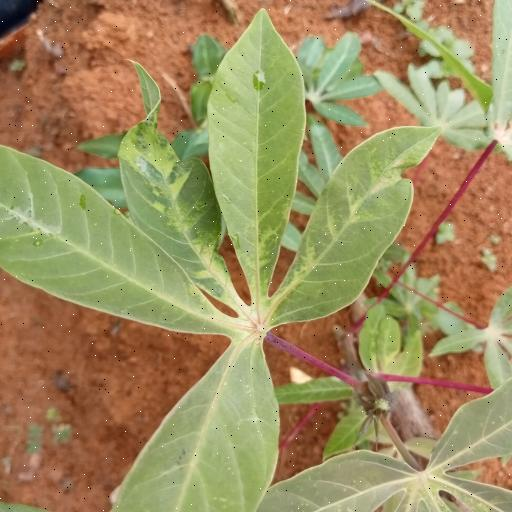Cassava_Mosaic: (11, 17, 427, 512)
